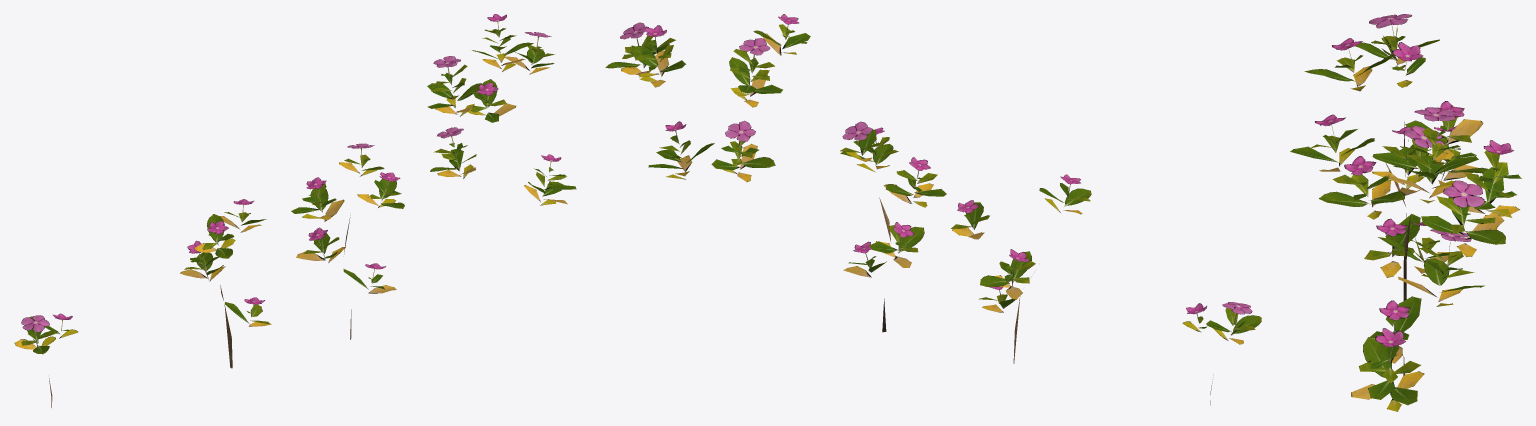
Rendered from periwinkle.glb.
3 renders of one model, left to right at view 1: azimuth 30°, elevation 25°; view 2: azimuth 150°, elevation 25°; view 3: azimuth 270°, elevation 25°, orthographic. The views are drawn at different scales.
Parts seen in each view (by area): view 1: periwinkle_plant_02_LOD0, periwinkle_plant_03_LOD0, periwinkle_plant_04_LOD0, periwinkle_plant_06_LOD0; view 2: periwinkle_plant_02_LOD0, periwinkle_plant_03_LOD0, periwinkle_plant_04_LOD0, periwinkle_plant_06_LOD0; view 3: periwinkle_plant_02_LOD0, periwinkle_plant_03_LOD0, periwinkle_plant_04_LOD0, periwinkle_plant_06_LOD0.
Boxes of the visible parts, <box> form: periwinkle_plant_02_LOD0: <box>427,14,576,205</box>; periwinkle_plant_03_LOD0: <box>291,143,404,339</box>; periwinkle_plant_04_LOD0: <box>180,199,271,368</box>; periwinkle_plant_06_LOD0: <box>14,313,77,407</box>; periwinkle_plant_02_LOD0: <box>605,14,810,181</box>; periwinkle_plant_03_LOD0: <box>840,121,946,332</box>; periwinkle_plant_04_LOD0: <box>951,174,1091,363</box>; periwinkle_plant_06_LOD0: <box>1182,302,1261,405</box>; periwinkle_plant_02_LOD0: <box>1290,107,1521,411</box>; periwinkle_plant_03_LOD0: <box>1319,126,1461,374</box>; periwinkle_plant_04_LOD0: <box>1304,38,1487,300</box>; periwinkle_plant_06_LOD0: <box>1355,14,1439,176</box>.
Size of the model in its own units: 0.9334 by 0.4107 by 0.2242.
Materials: 1 (1 with a texture image).
